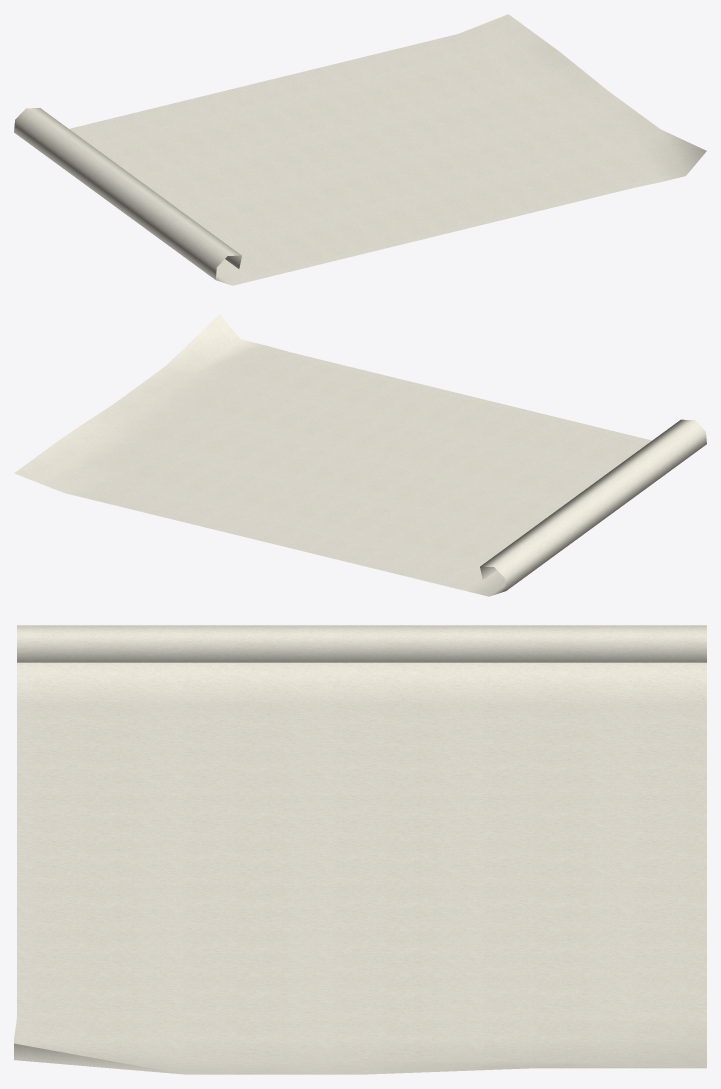
Rendered from Paper.fbx.
3 views of the same model, one above another, from view 1: azimuth 30°, elevation 25°; view 2: azimuth 150°, elevation 25°; view 3: azimuth 270°, elevation 25° (orthographic). The views are drawn at different scales.
Parts seen in each view (by area): view 1: map; view 2: map; view 3: map.
Part boxes in pixels (<box>): map: <box>14,14,706,285</box>; map: <box>14,314,706,596</box>; map: <box>14,625,706,1074</box>.
Size of the model in its own units: 59.13 by 41.96 by 3.56.
1 material, 1 textured.
